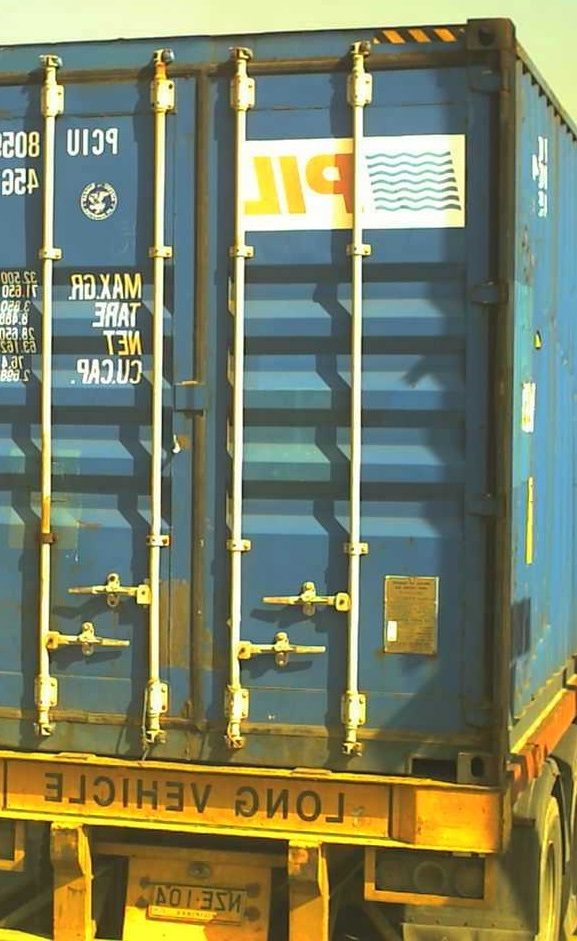container_door: (6, 15, 524, 751)
